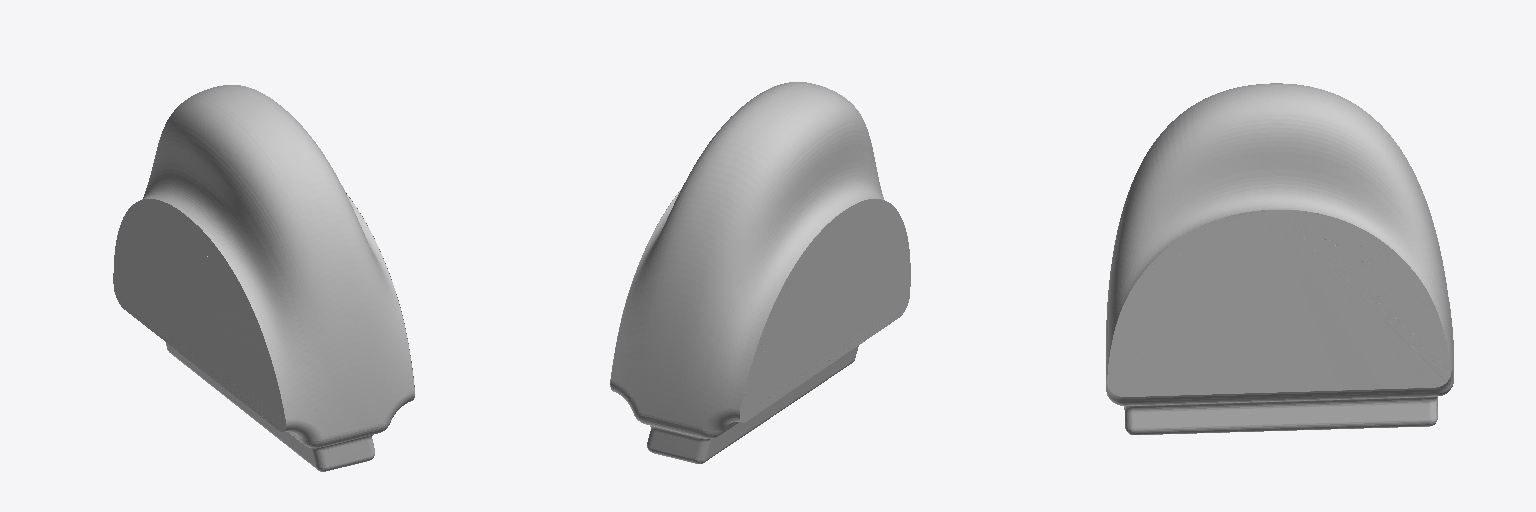
Rendered from CAD softgripper_slice4.obj.
3 renders of one model, left to right at view 1: azimuth 30°, elevation 25°; view 2: azimuth 150°, elevation 25°; view 3: azimuth 270°, elevation 25°, orthographic.
Visible parts, largest first — view 1: SG.AN.F1.005; view 2: SG.AN.F1.005; view 3: SG.AN.F1.005.
Boxes of the visible parts, x1=… form: SG.AN.F1.005: x1=113, y1=85, x2=414, y2=471; SG.AN.F1.005: x1=610, y1=82, x2=910, y2=463; SG.AN.F1.005: x1=1106, y1=83, x2=1453, y2=434.
Bounding box in the file's own units: 0.0098 × 0.0203 × 0.02.